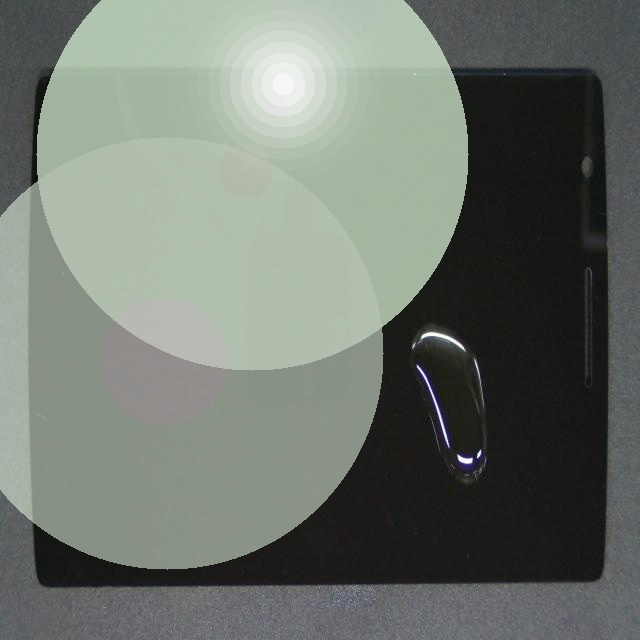oil: (261, 172, 640, 488)
